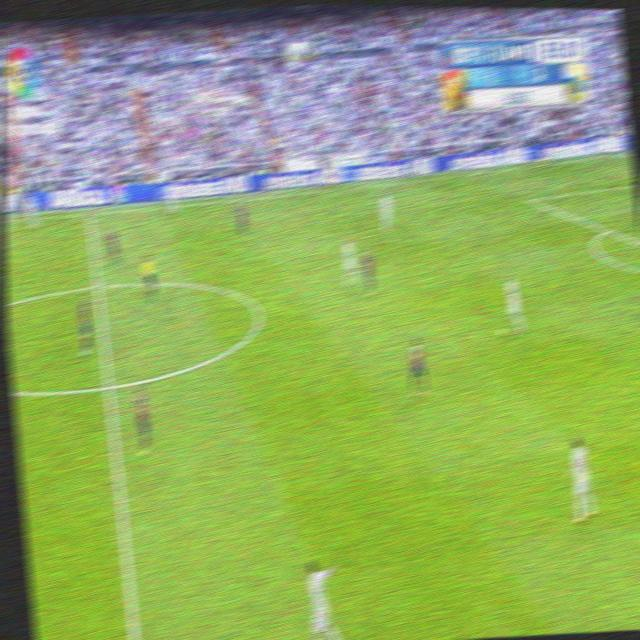bigarea_bottom_outter: (599, 221, 611, 236)
halfcircle_bottom: (99, 371, 117, 399)
halfcircle_top: (89, 272, 106, 297)
midline_top_intersection: (83, 205, 96, 221)
